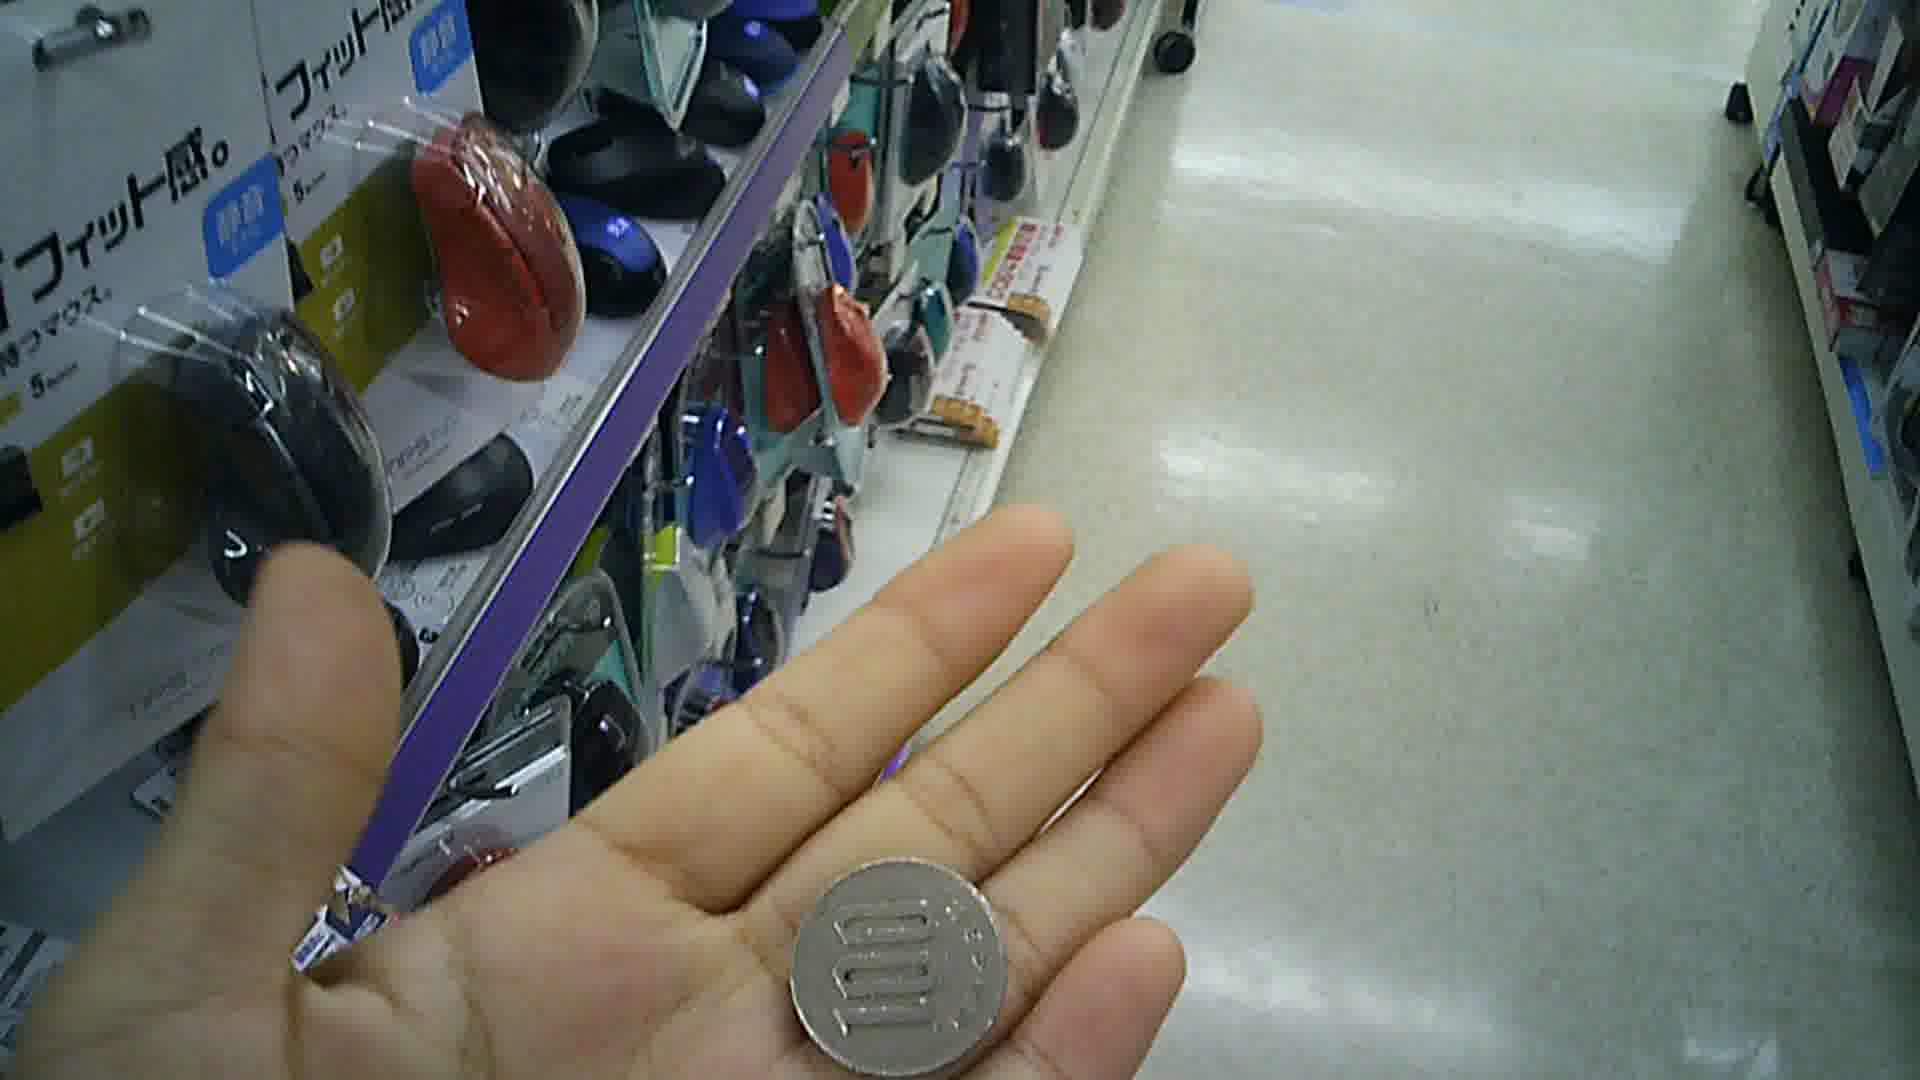100 Yen: (787, 858, 1019, 1075)
